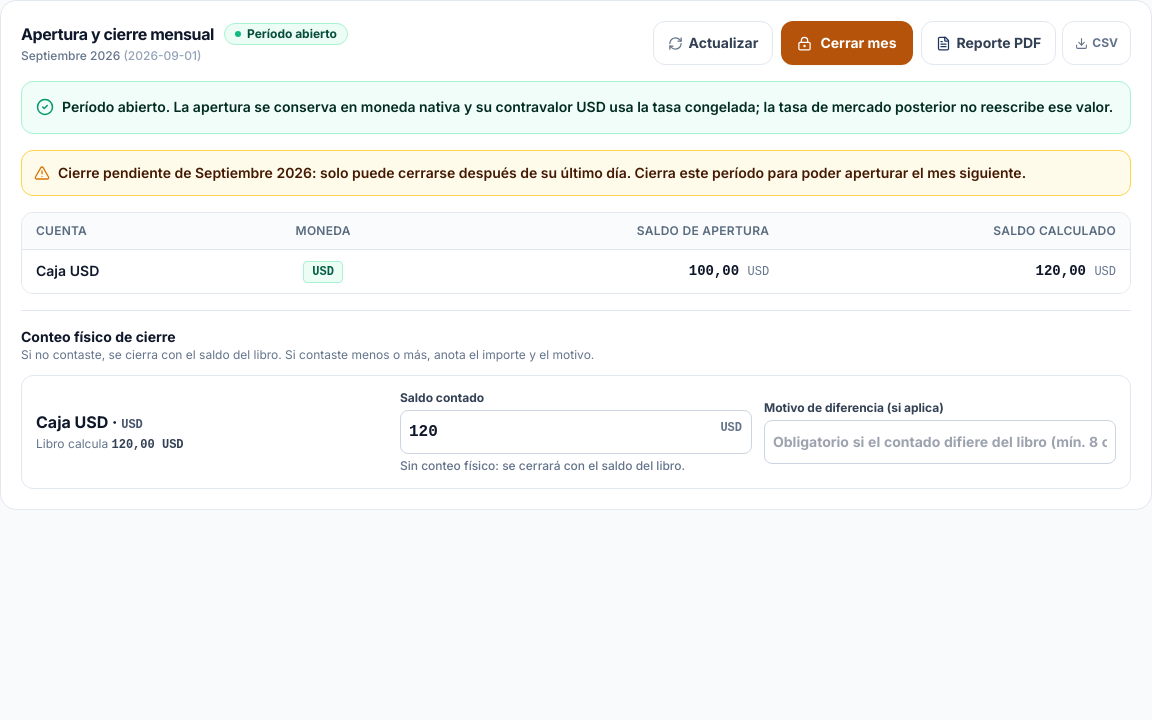
Test: PeriodoMensualFinanzas — cierre con diferencias › sin motivo exige justificación y no confirma el cierre
The image size is (1152, 720).
Replace the text in the field labelled "Saldo contado" with "130": (576, 432) [400,410,752,454]
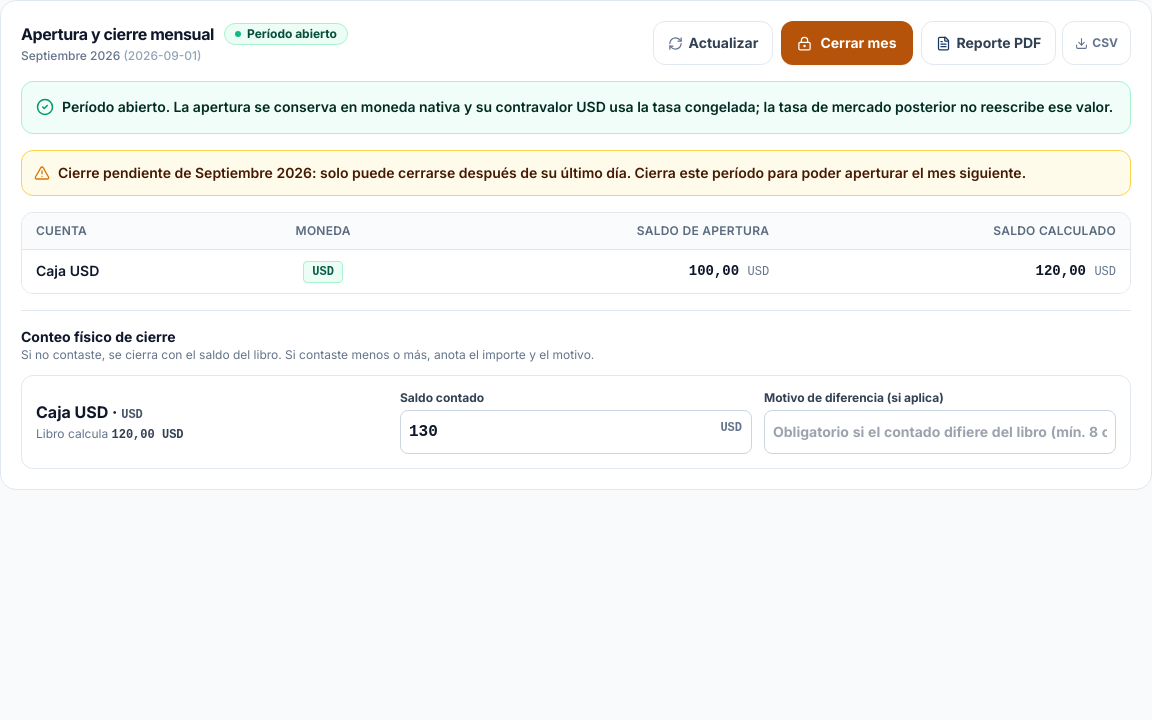
Click the button "Cerrar mes": click(847, 43) [781,21,912,65]
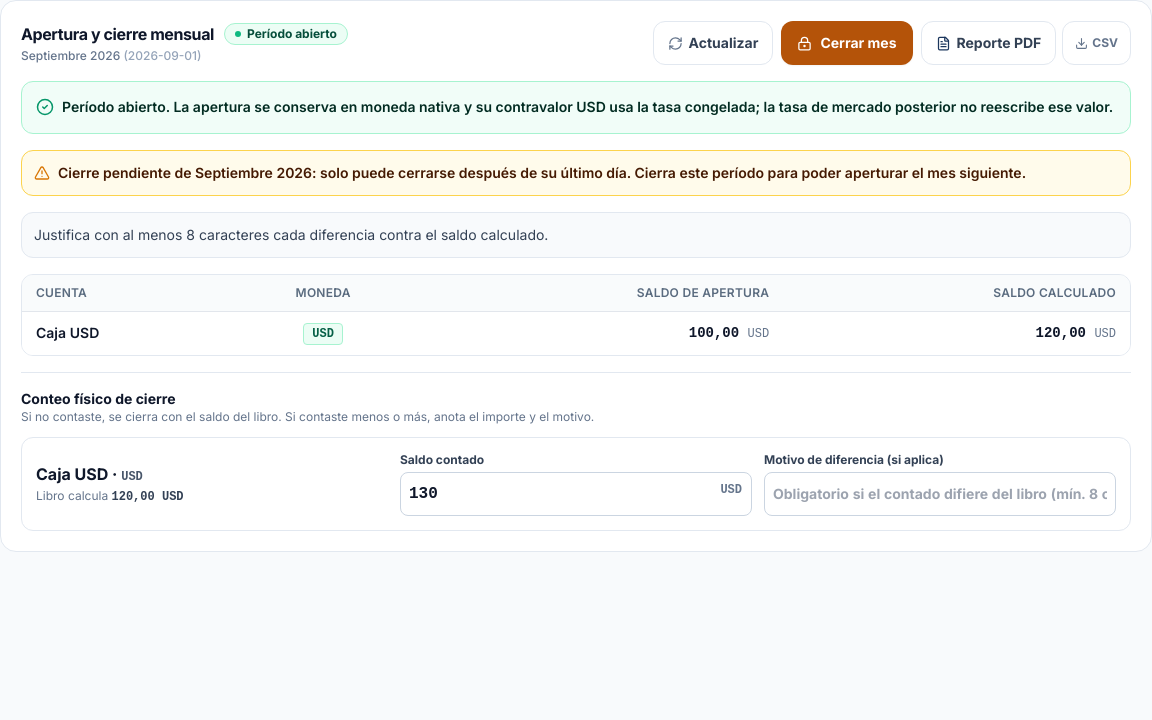
Expected: the message shows "Justifica con al menos 8 caracteres", [34,226,548,243]
